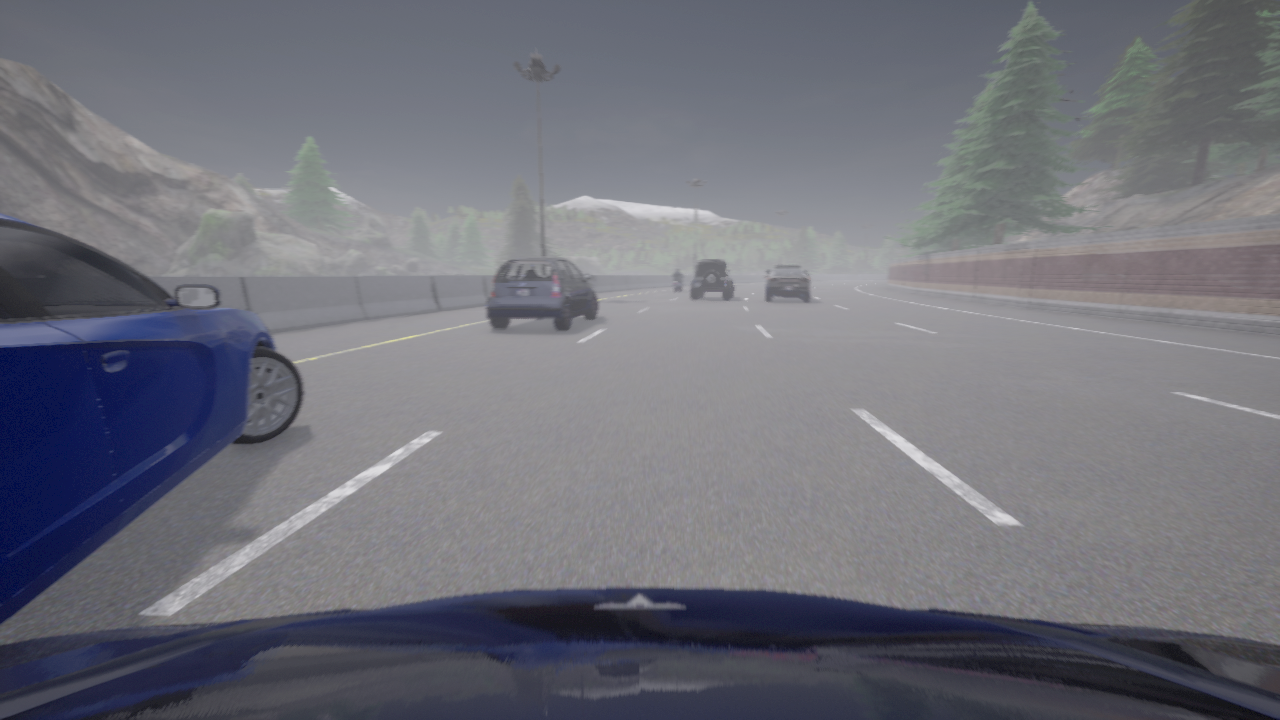cyclist: (0, 588, 1279, 719), (486, 257, 597, 330), (764, 265, 809, 301), (691, 261, 733, 299), (673, 276, 682, 291), (808, 274, 810, 282)
